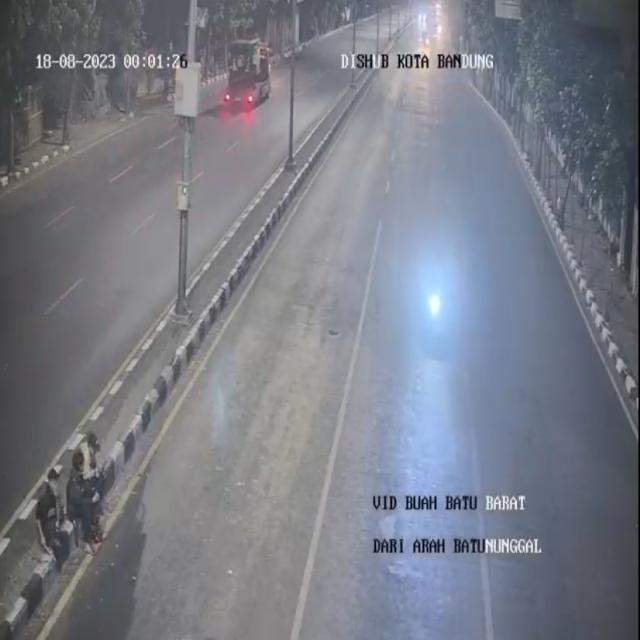motorcycle: (410, 213, 460, 374)
